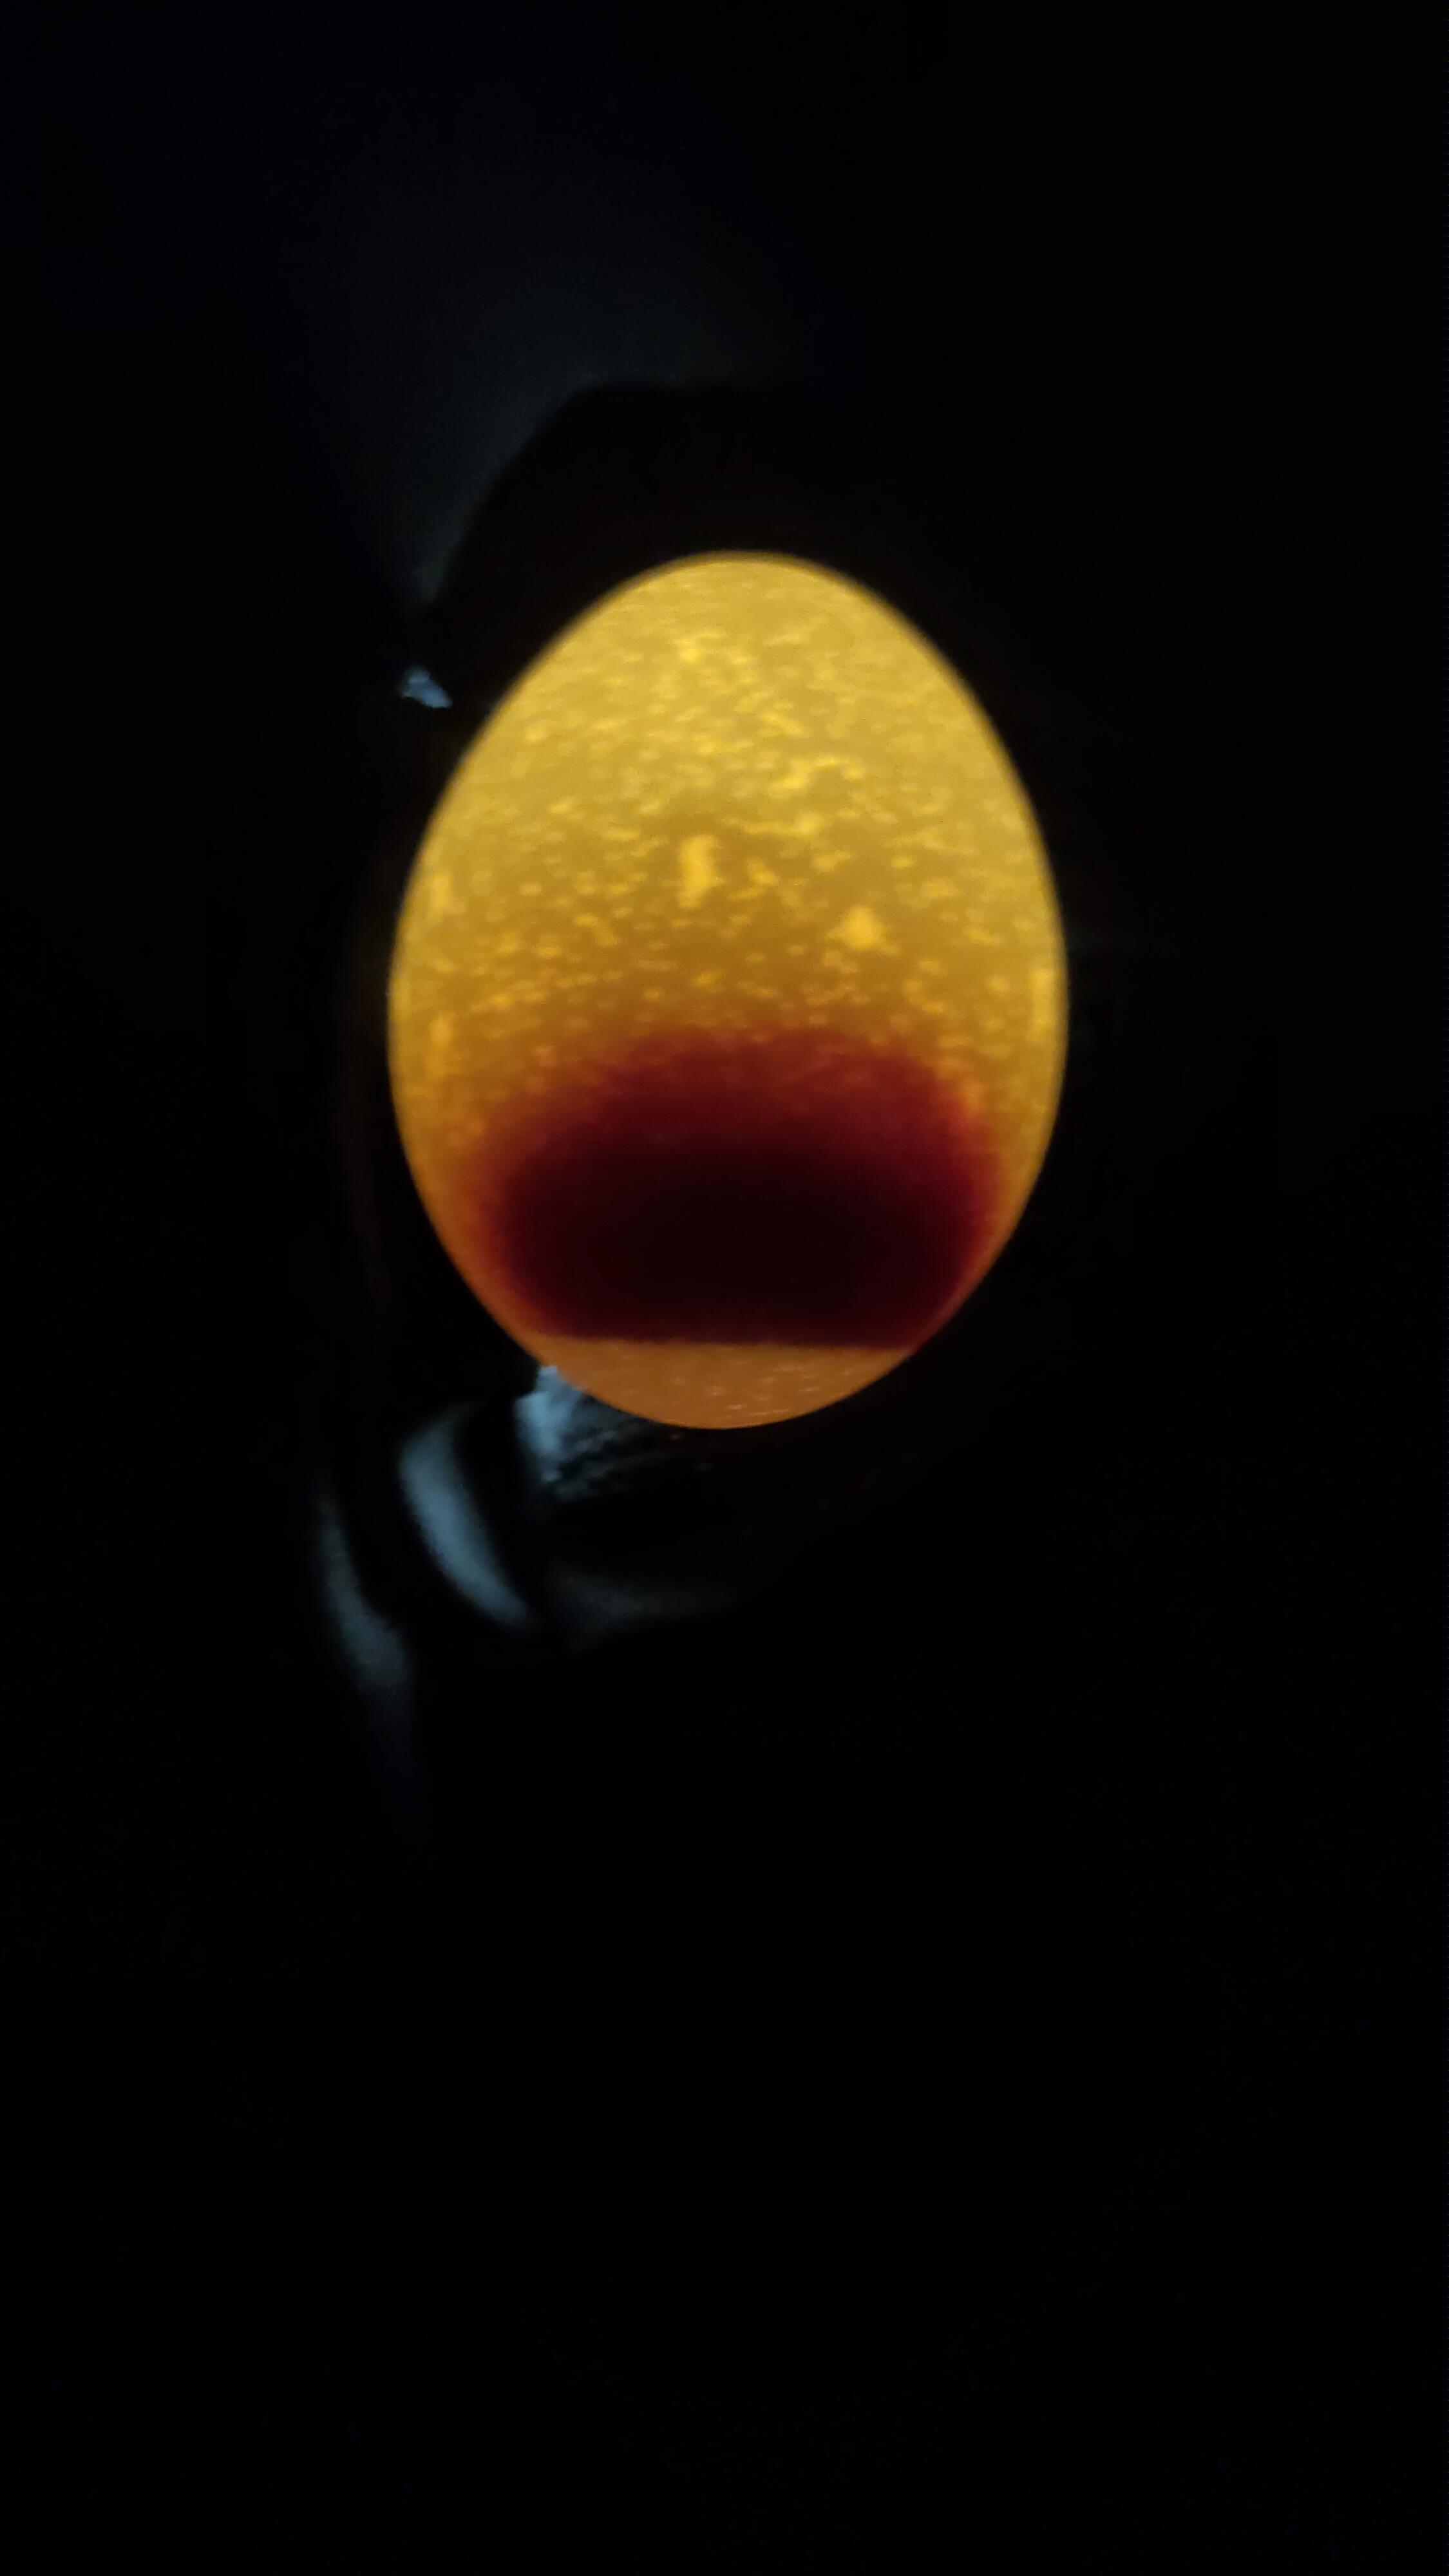AA - Premium: (322, 499, 1136, 1504)
